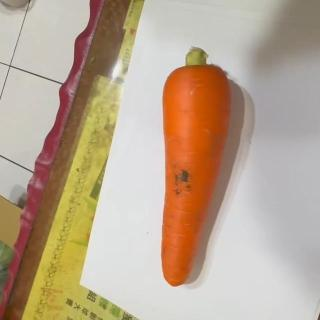carrot: (160, 47, 232, 286)
